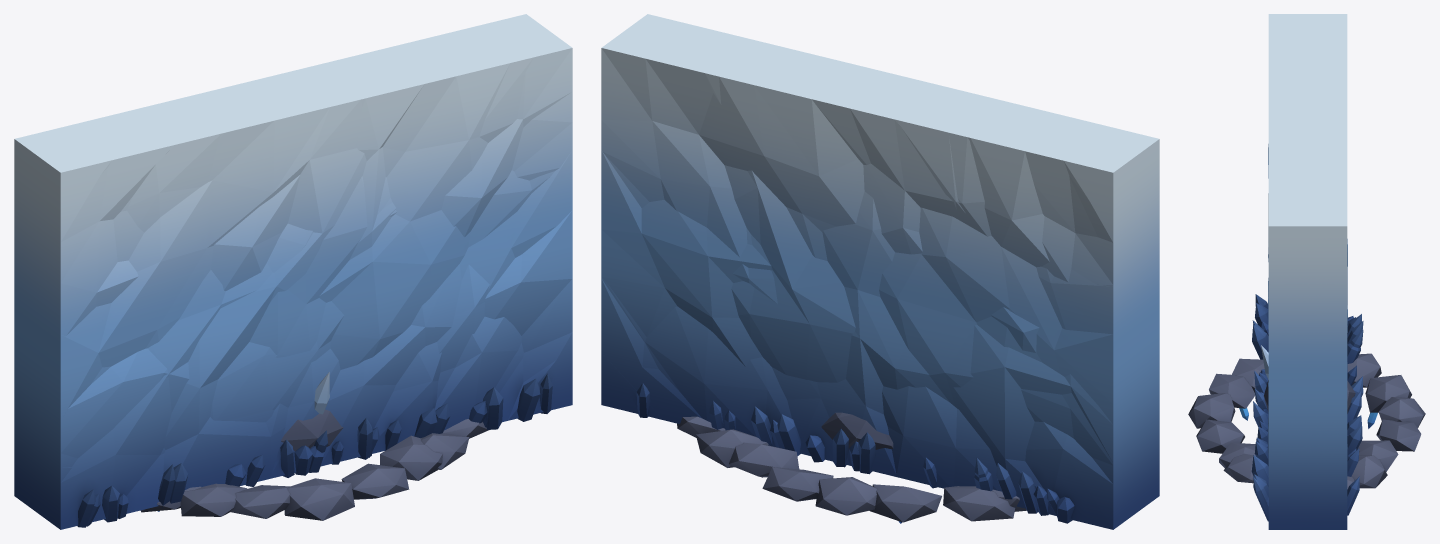
Rendered from Props.fbx.
The picture shows the model from 3 angles, left to right: view 1: azimuth 30°, elevation 25°; view 2: azimuth 150°, elevation 25°; view 3: azimuth 270°, elevation 25°; orthographic projection. The views are drawn at different scales.
Visible parts, largest first — view 1: QuartzWallA, QuartzWallB, QuartzWallC, CeilingCrack, Boulder2; view 2: QuartzWallA, QuartzWallC, QuartzWallB, CeilingCrack, Boulder2; view 3: QuartzWallA, QuartzWallC, QuartzWallB, CeilingCrack.
Part boxes in pixels (x1,y1,x2,y2): QuartzWallA: (14,14,572,529); QuartzWallB: (14,14,572,529); QuartzWallC: (14,15,572,526); CeilingCrack: (140,419,488,520); Boulder2: (281,409,343,451); QuartzWallA: (601,14,1159,529); QuartzWallC: (601,14,1159,529); QuartzWallB: (601,15,1159,527); CeilingCrack: (677,416,1026,523); Boulder2: (821,412,893,450); QuartzWallA: (1252,14,1363,529); QuartzWallC: (1252,14,1363,528); QuartzWallB: (1251,14,1363,529); CeilingCrack: (1188,353,1425,489).
Bounding box in the file's own units: 60 × 44.03 × 28.36.
Materials: 10 (10 with a texture image).
